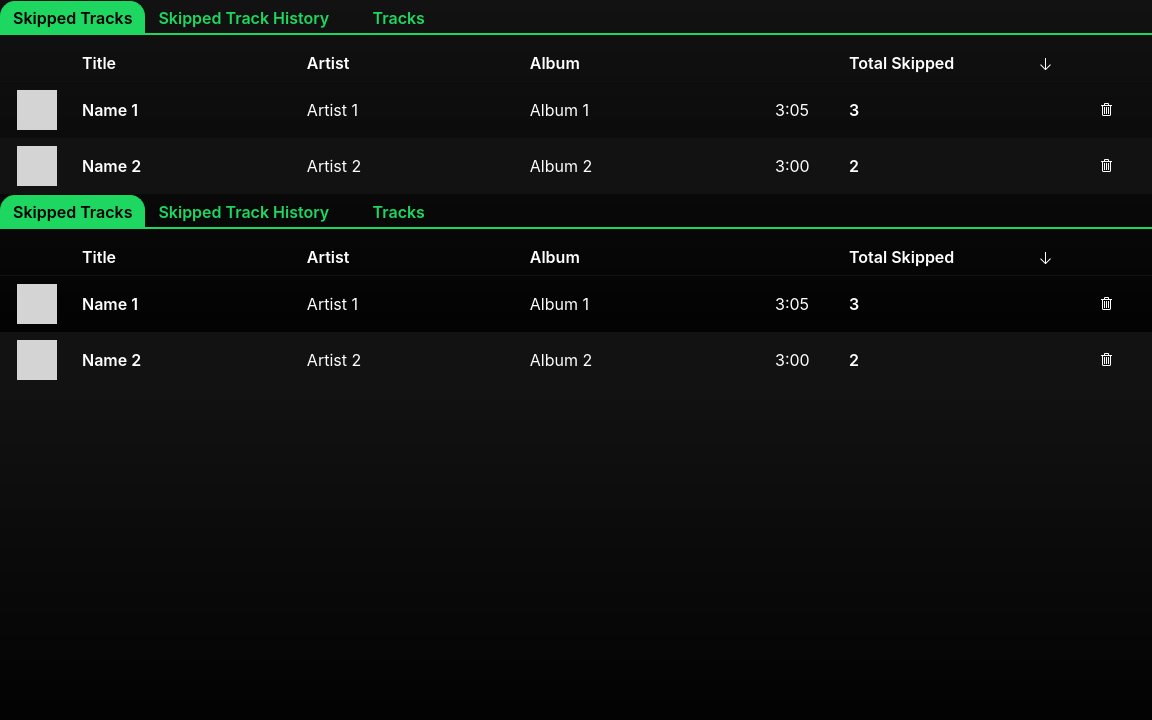
<PlaylistTabs /> › should display Skipped Track History in loading state
Click the 2nd tab with test id "skipped-track-history-tab".
click(244, 212)  # box [145,195,342,228]
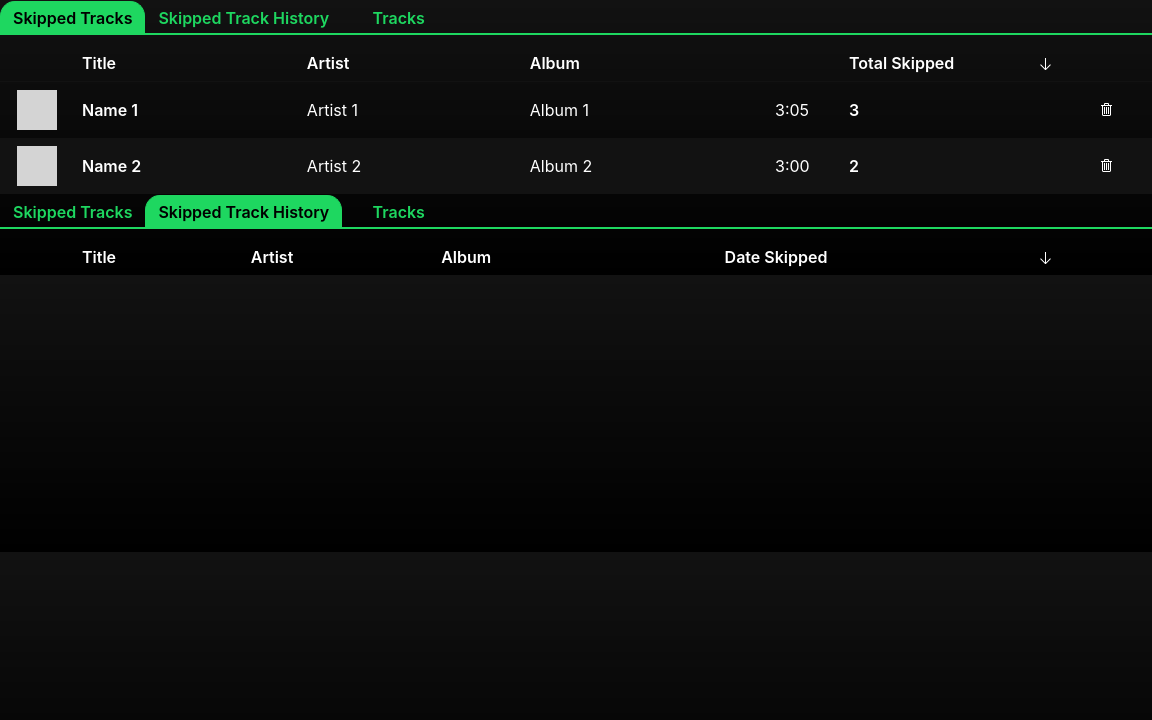
Expected: the table with test id "skipped-track-history-table-loading" is shown, [0,239,1151,276]
